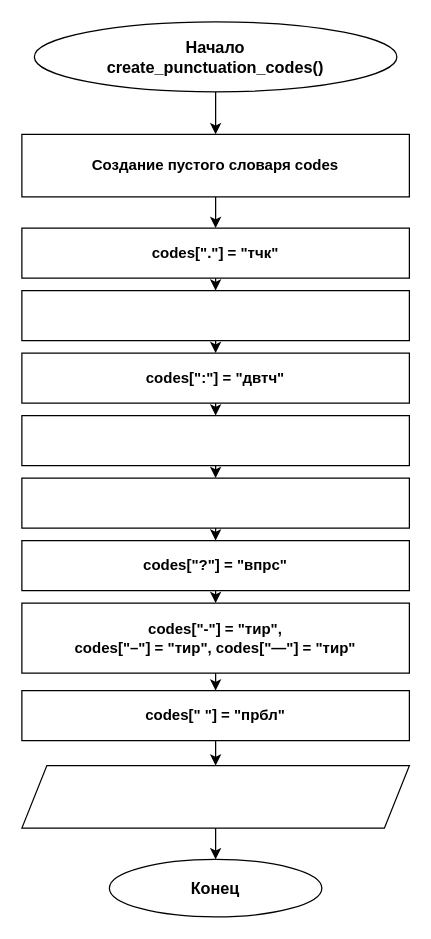
Image size: 431x939. Some labels were removed from this diagram. Here are the shapes that lost their labels. From the top down, the box of each, then its label:
(21, 289, 409, 341): codes[","] = "зпт"
(21, 414, 409, 466): codes[";"] = "тчзп"
(21, 477, 409, 528): codes["!"] = "вскл"
(21, 764, 409, 828): Возврат словаря codes
